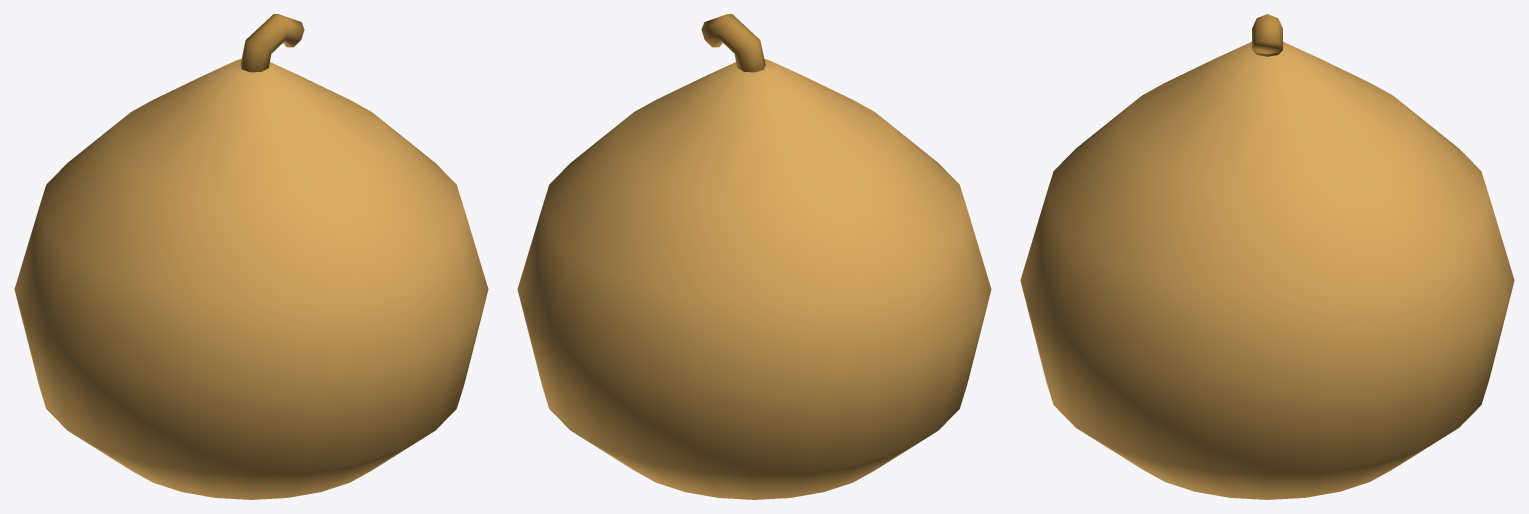
The model's file is onion.glb.
3 views of the same model, side by side, from view 1: azimuth 30°, elevation 25°; view 2: azimuth 150°, elevation 25°; view 3: azimuth 270°, elevation 25° (orthographic). The views are drawn at different scales.
Visible parts, largest first — view 1: onion, stem; view 2: onion, stem; view 3: onion, stem.
Part boxes in pixels (<box>): onion: <box>14,59,488,499</box>; stem: <box>240,14,304,72</box>; onion: <box>517,59,991,499</box>; stem: <box>701,14,765,72</box>; onion: <box>1020,42,1514,499</box>; stem: <box>1252,14,1282,56</box>.
Size of the model in its own units: 0.58 by 0.5929 by 0.58.
